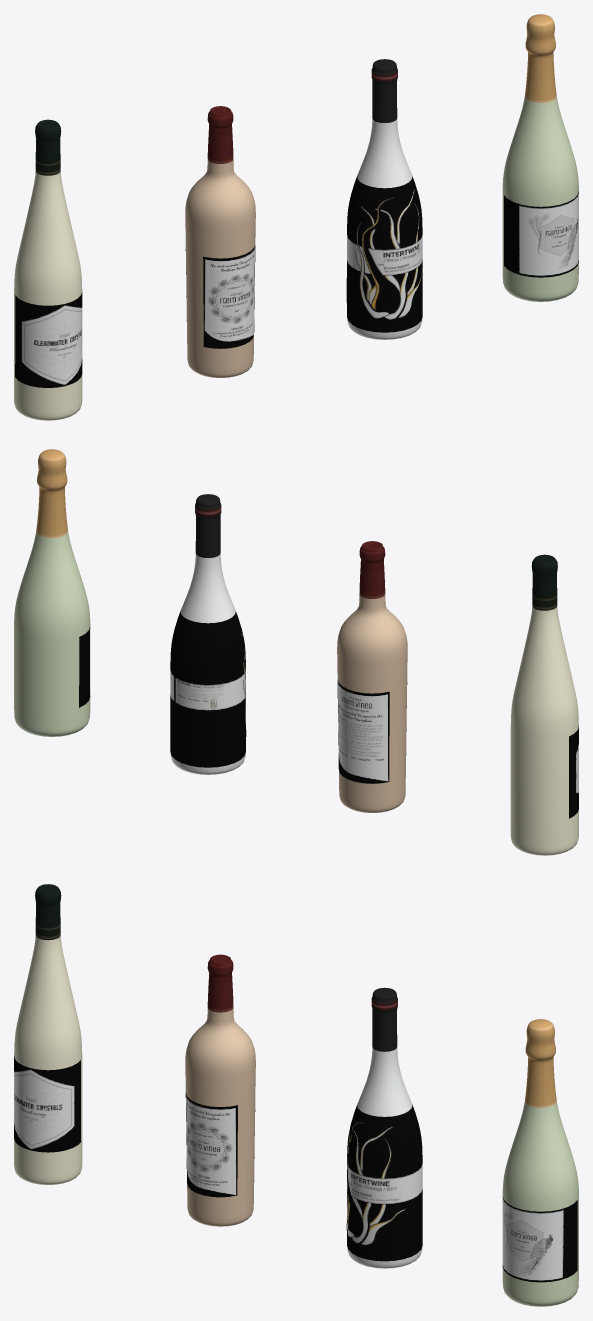
Rendered from wine_bottles_01.glb.
3 renders of one model, top to bottom at view 1: azimuth 30°, elevation 25°; view 2: azimuth 150°, elevation 25°; view 3: azimuth 330°, elevation 25°, orthographic.
Parts seen in each view (by area): view 1: wine_bottles_01_champagne, wine_bottles_01_alsace, wine_bottles_01_burgundy, wine_bottles_01_bordeaux; view 2: wine_bottles_01_champagne, wine_bottles_01_alsace, wine_bottles_01_burgundy, wine_bottles_01_bordeaux; view 3: wine_bottles_01_champagne, wine_bottles_01_alsace, wine_bottles_01_burgundy, wine_bottles_01_bordeaux.
Boxes of the visible parts, left/top/right/bottom form: wine_bottles_01_champagne: left=502, top=14, right=578, bottom=301; wine_bottles_01_alsace: left=14, top=119, right=82, bottom=420; wine_bottles_01_burgundy: left=346, top=59, right=422, bottom=339; wine_bottles_01_bordeaux: left=185, top=106, right=255, bottom=377; wine_bottles_01_champagne: left=14, top=449, right=90, bottom=736; wine_bottles_01_alsace: left=510, top=554, right=578, bottom=855; wine_bottles_01_burgundy: left=170, top=494, right=246, bottom=774; wine_bottles_01_bordeaux: left=337, top=541, right=407, bottom=812; wine_bottles_01_champagne: left=502, top=1019, right=578, bottom=1306; wine_bottles_01_alsace: left=14, top=884, right=82, bottom=1184; wine_bottles_01_burgundy: left=346, top=987, right=422, bottom=1268; wine_bottles_01_bordeaux: left=185, top=954, right=255, bottom=1226.
Bounding box in the file's own units: 0.6763 × 0.3314 × 0.0805.
Materials: 9 (6 with a texture image).
